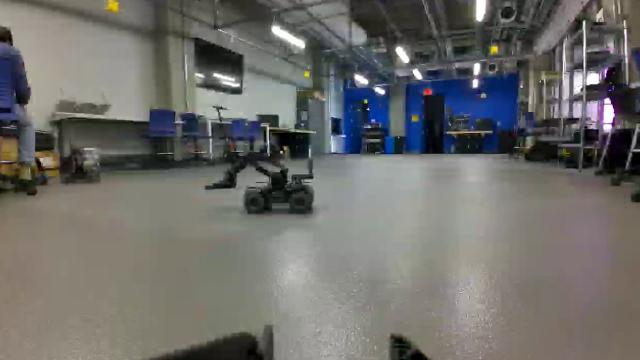robot: (202, 145, 319, 219)
